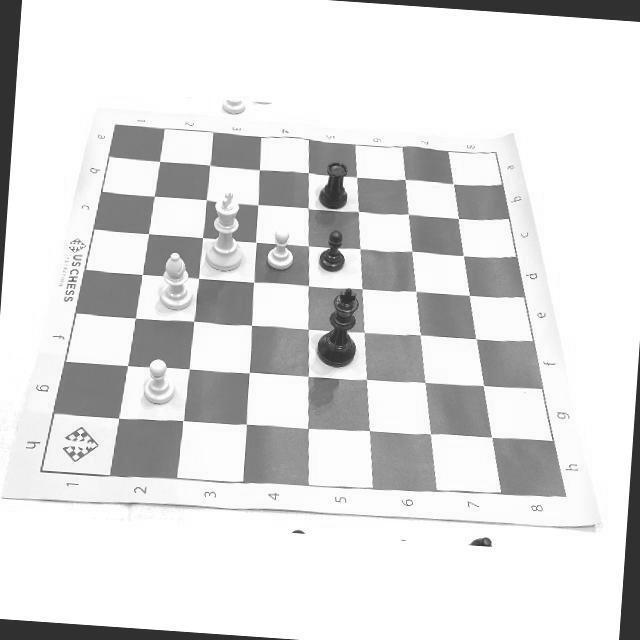chessboard: (42, 125, 566, 495)
